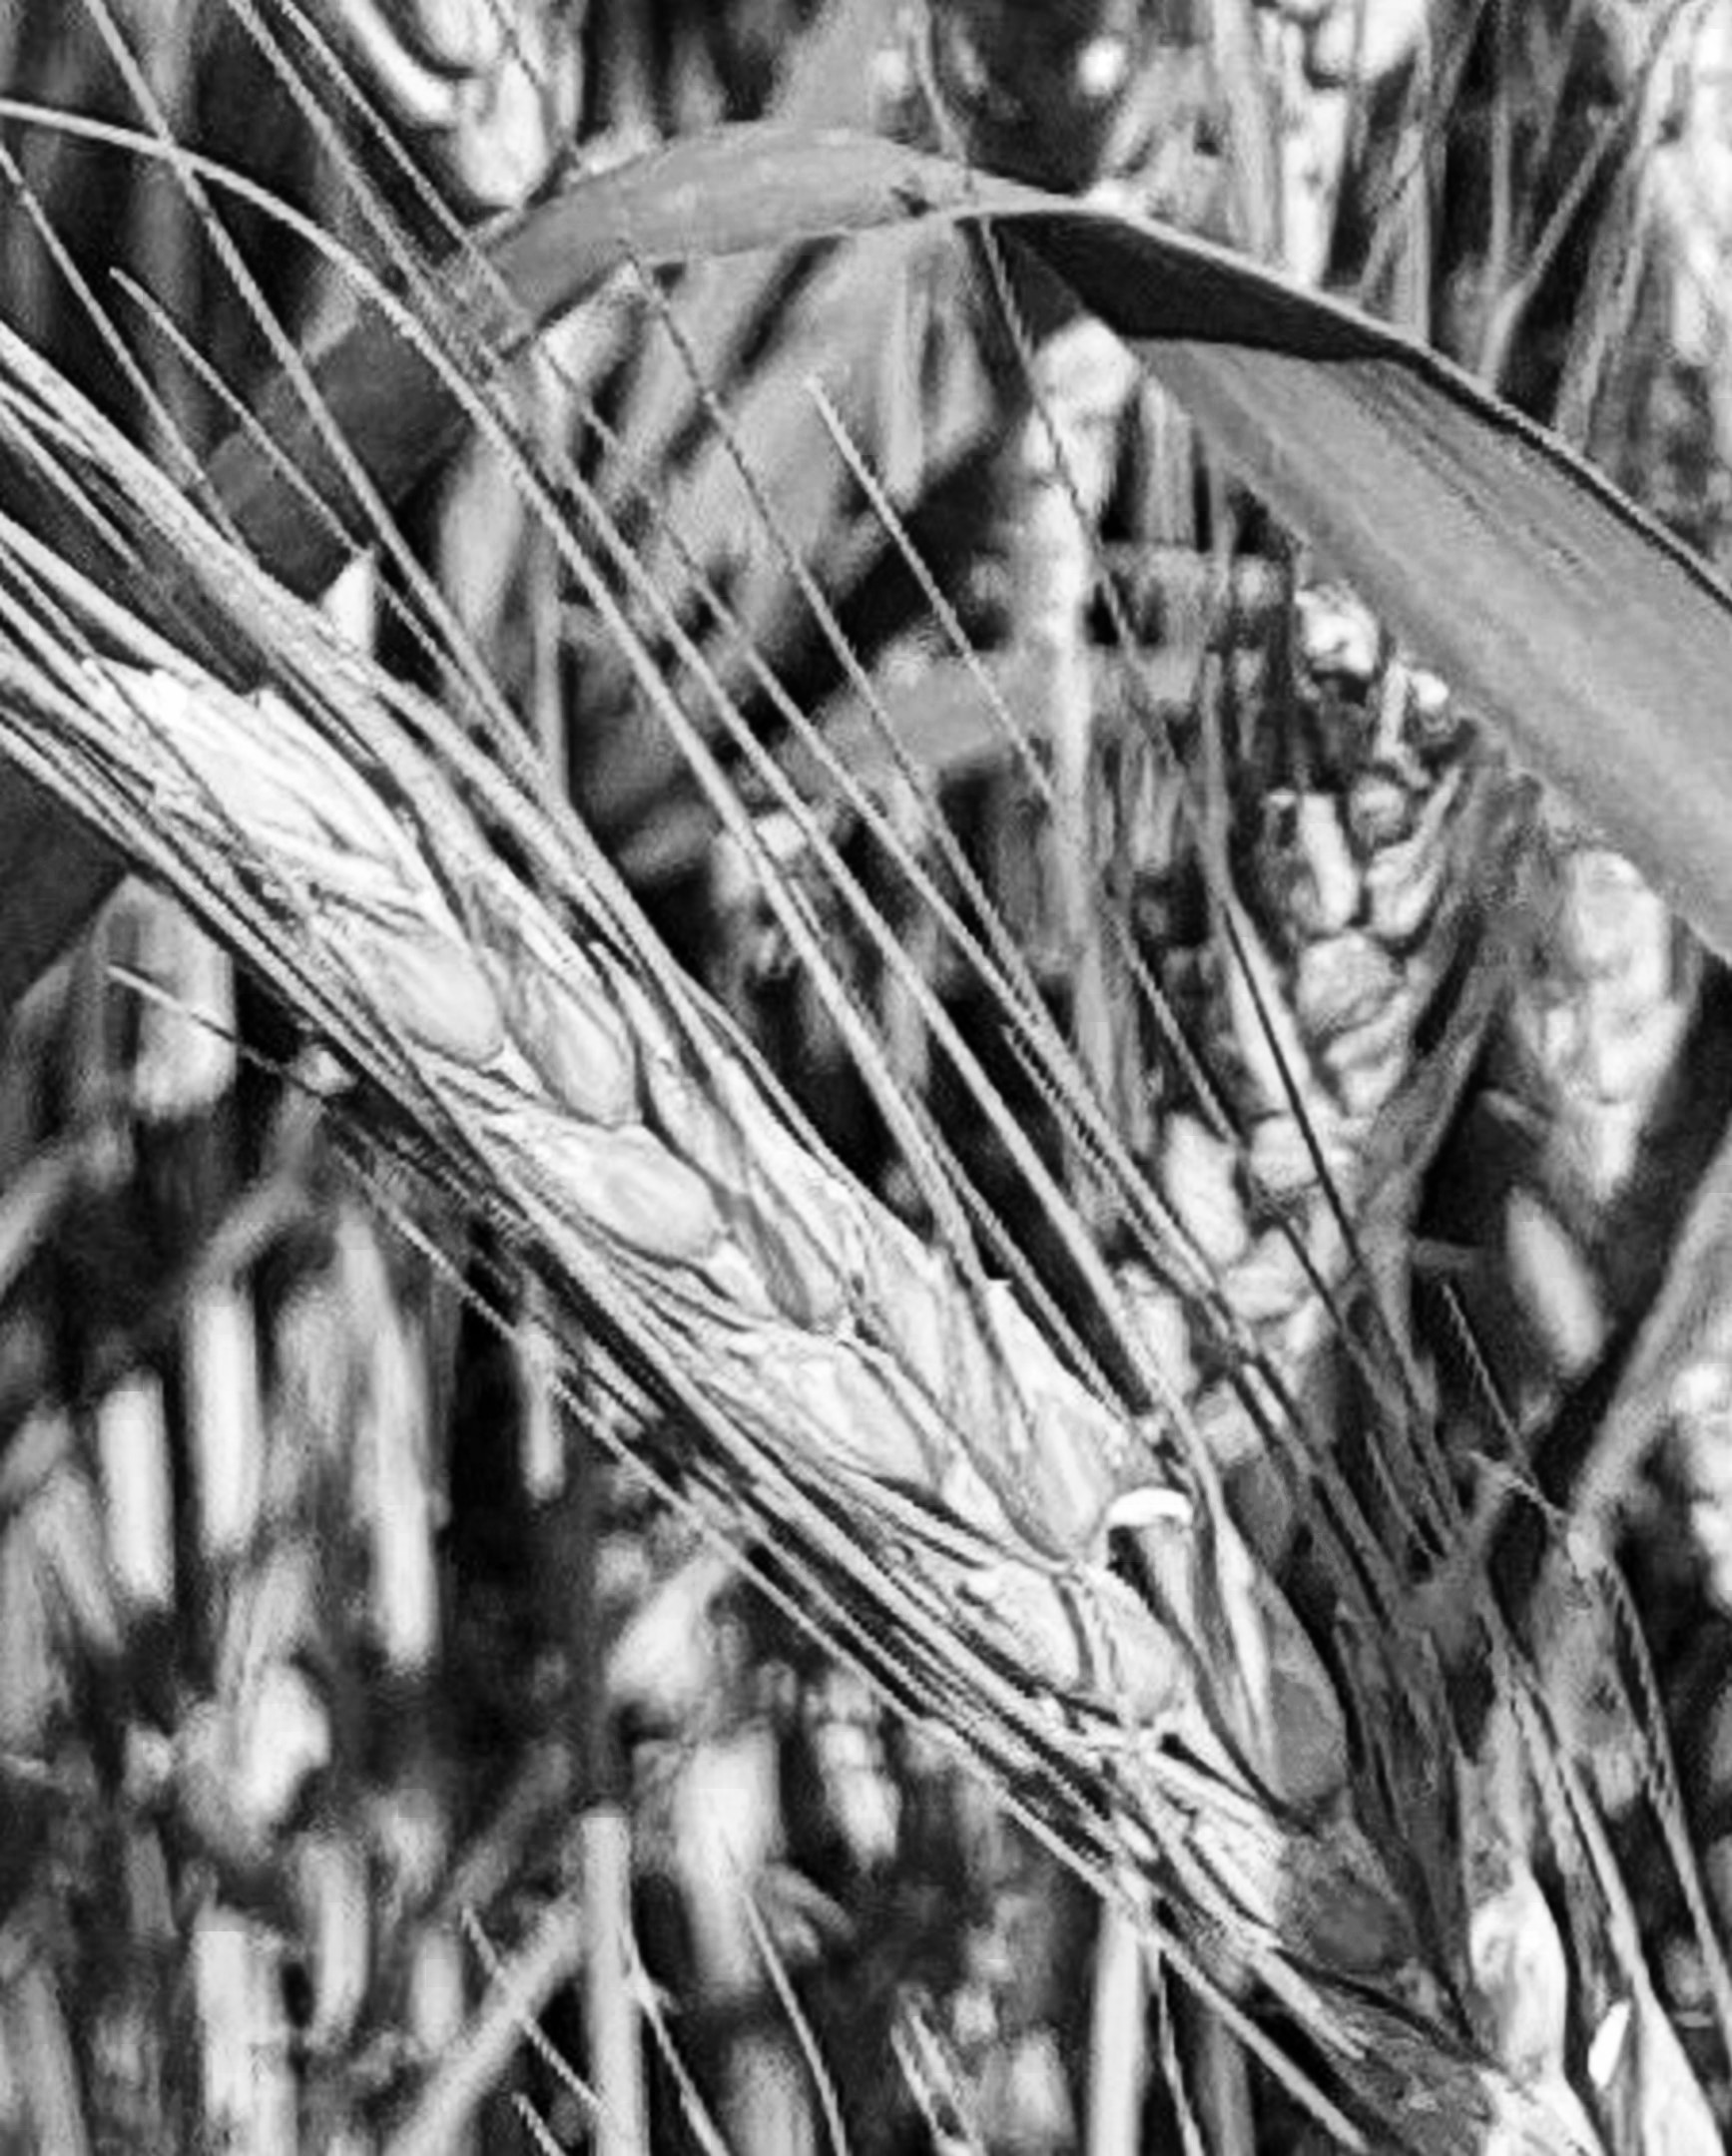Healthy Wheat: (110, 657, 1633, 2034)
